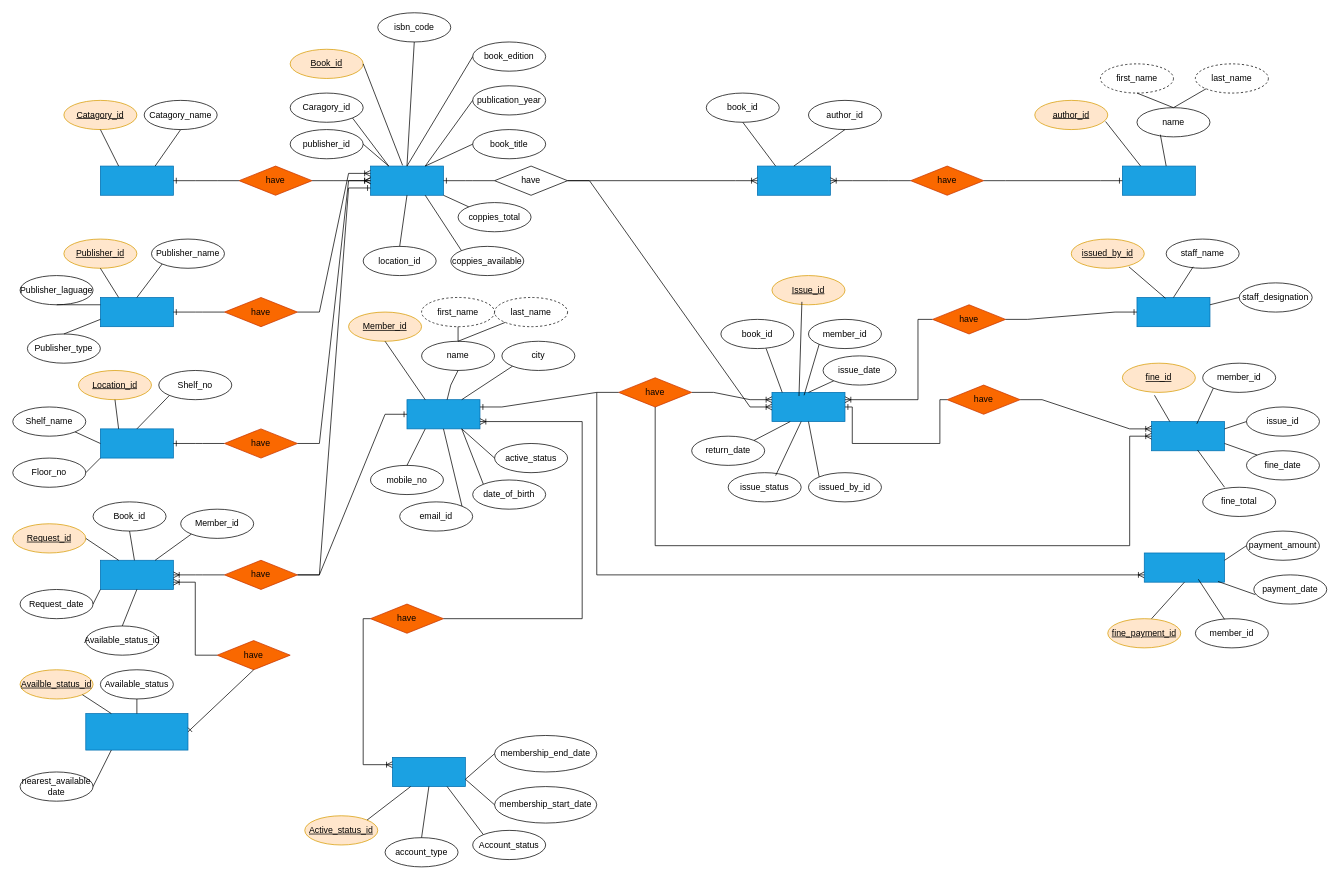
Image size: 1340x880. Some labels were removed from this diagram. The centre of each missing label's shape, as x and y in pixels:
"Author" goes at point (1158, 180).
"Book" goes at point (406, 180).
"Book_Author" goes at point (793, 180).
"Book_Issue" goes at point (808, 407).
"Book_Request" goes at point (136, 574).
"Book_Request_status" goes at point (136, 731).
"Category" goes at point (136, 180).
"Fine_Due" goes at point (1188, 436).
"Fine_Payment" goes at point (1184, 567).
"Library_Staff" goes at point (1173, 312).
"location" goes at point (136, 443).
"Member" goes at point (443, 414).
"Member_Status" goes at point (428, 772).
"publisher" goes at point (136, 312).
